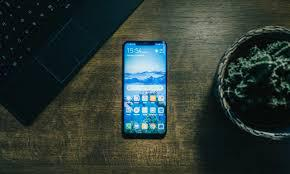Smartphone: (122, 41, 171, 139)
